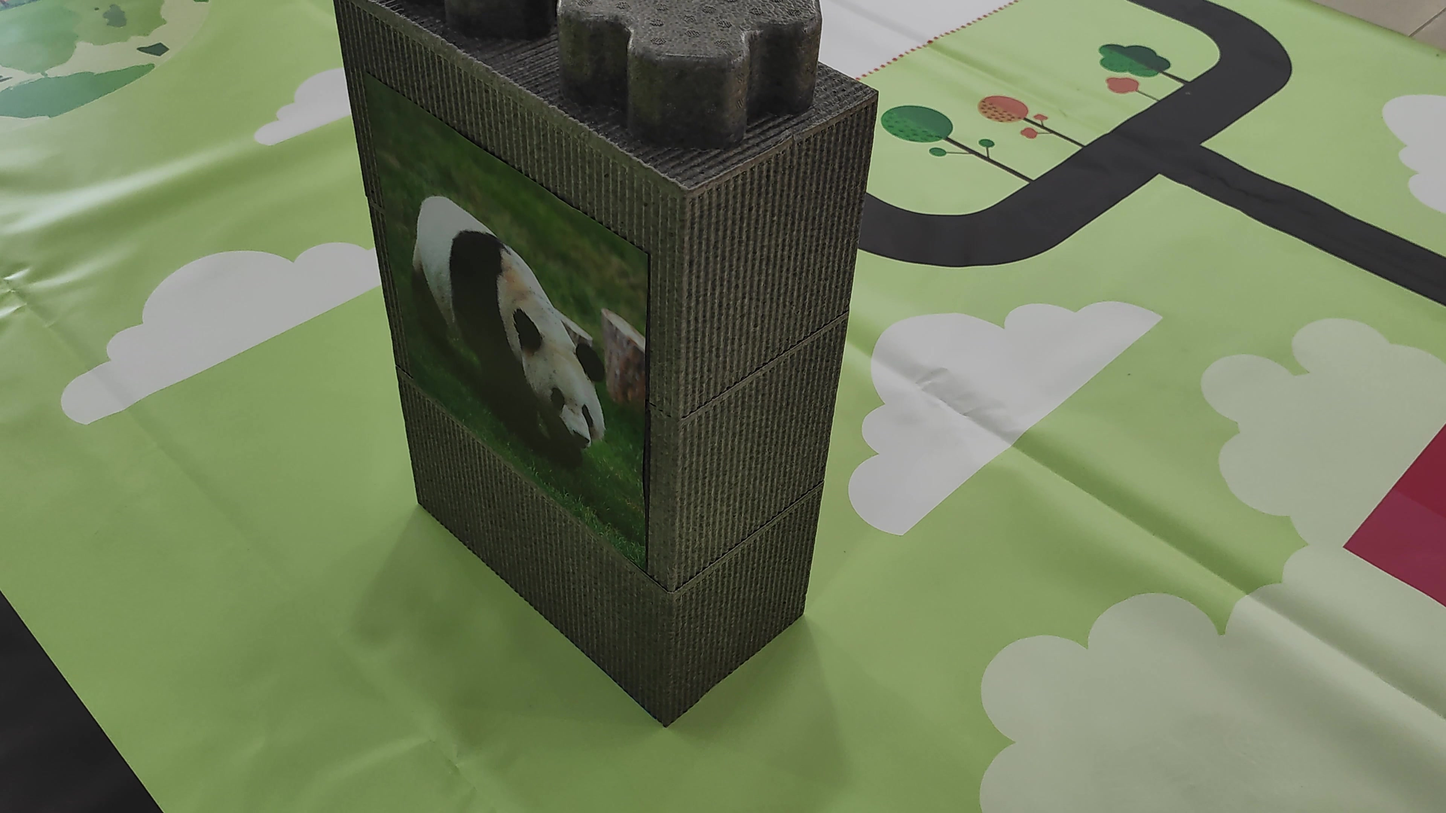panda: (397, 160, 647, 466)
